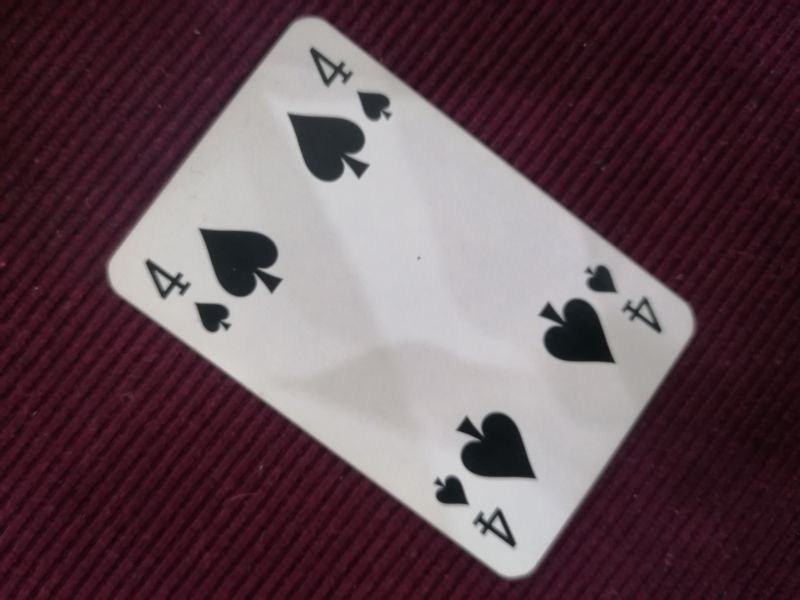4s: (141, 252, 235, 336), (304, 43, 397, 124), (575, 259, 668, 336), (431, 471, 518, 549)
